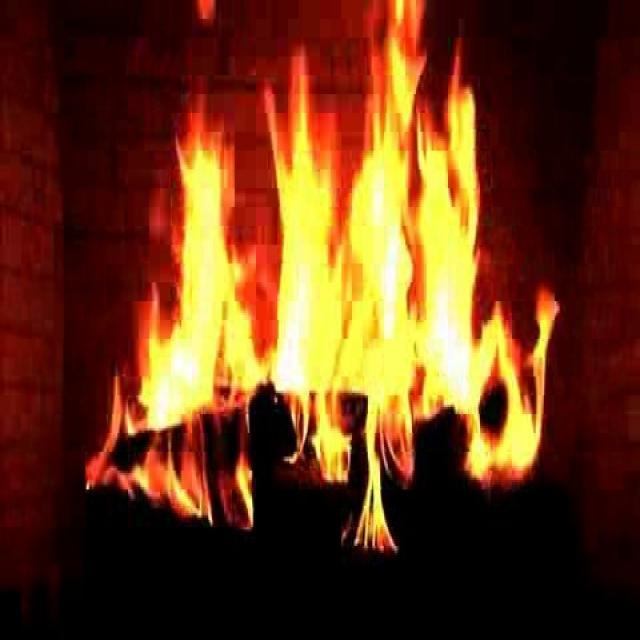Fire: (105, 39, 548, 536)
